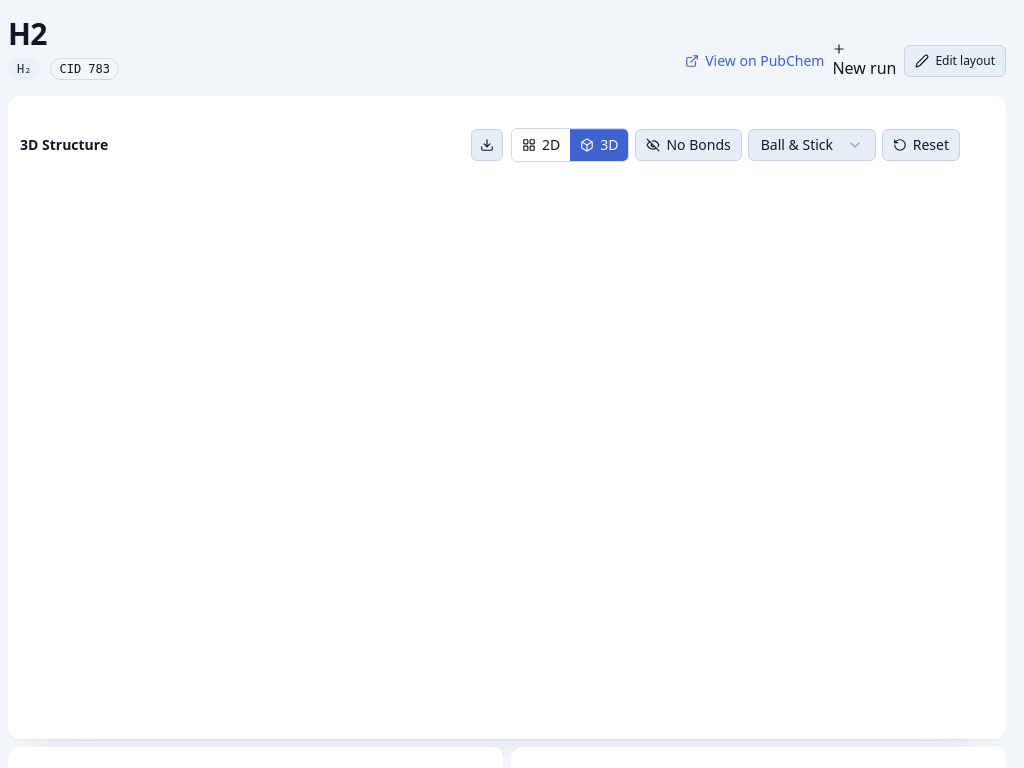
Test case: MoleculeDetail — viewer controls › renders Reset Layout button in the header
Click the button "Edit layout".
click(955, 61)  # box [904, 45, 1006, 77]
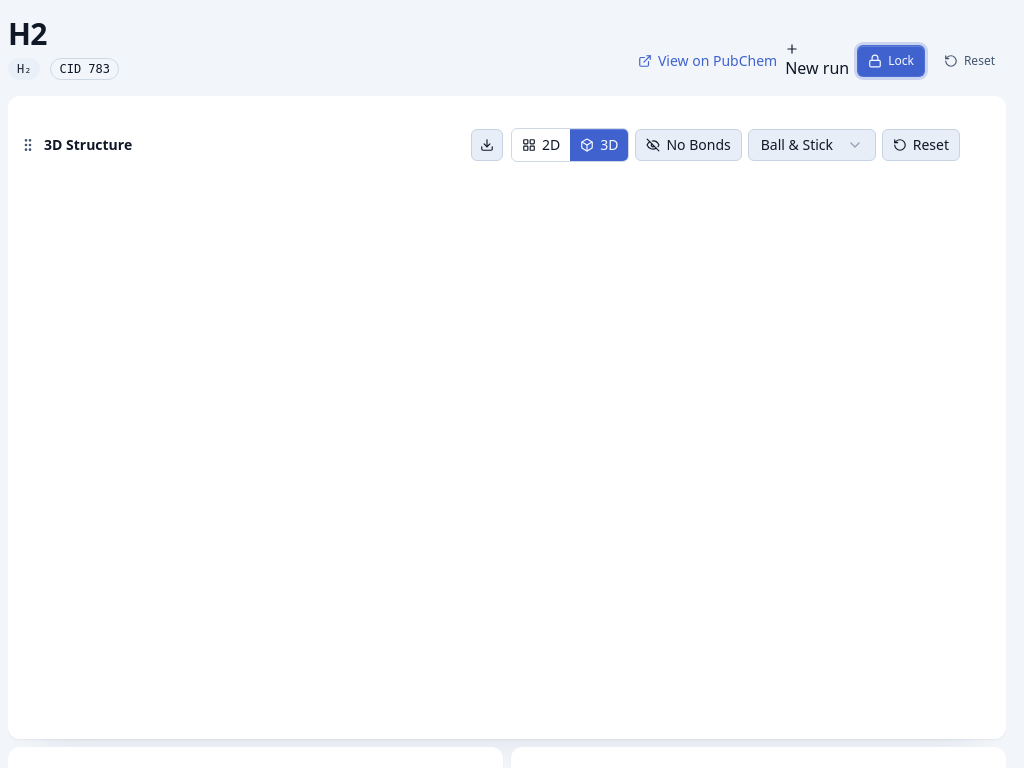
Expected: the button with aria-label "reset layout" is shown, [933, 45, 1006, 77]
